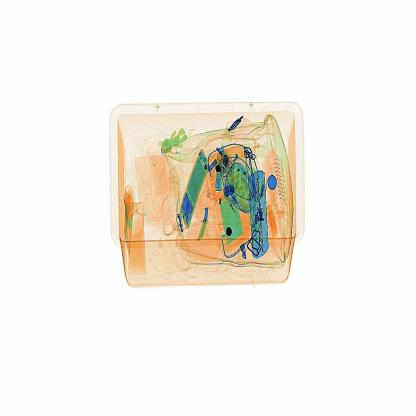wrench: (199, 202, 212, 248)
